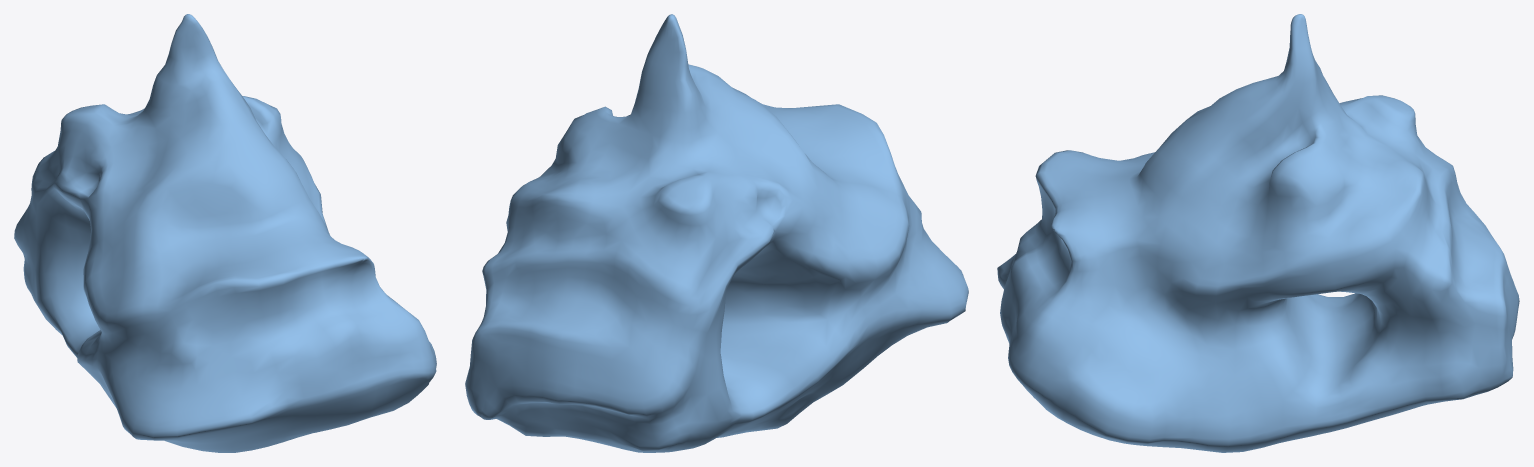
Rendered from Iceburg1.fbx.
The picture shows the model from 3 angles, left to right: view 1: azimuth 30°, elevation 25°; view 2: azimuth 150°, elevation 25°; view 3: azimuth 270°, elevation 25°; orthographic projection. The views are drawn at different scales.
Parts seen in each view (by area): view 1: Retopo_Iceburg1_high; view 2: Retopo_Iceburg1_high; view 3: Retopo_Iceburg1_high.
Part boxes in pixels (left/top/right/bottom): Retopo_Iceburg1_high: left=14, top=14, right=436, bottom=452; Retopo_Iceburg1_high: left=465, top=14, right=968, bottom=452; Retopo_Iceburg1_high: left=997, top=14, right=1519, bottom=452.
Size of the model in its own units: 213 by 242 by 289.
